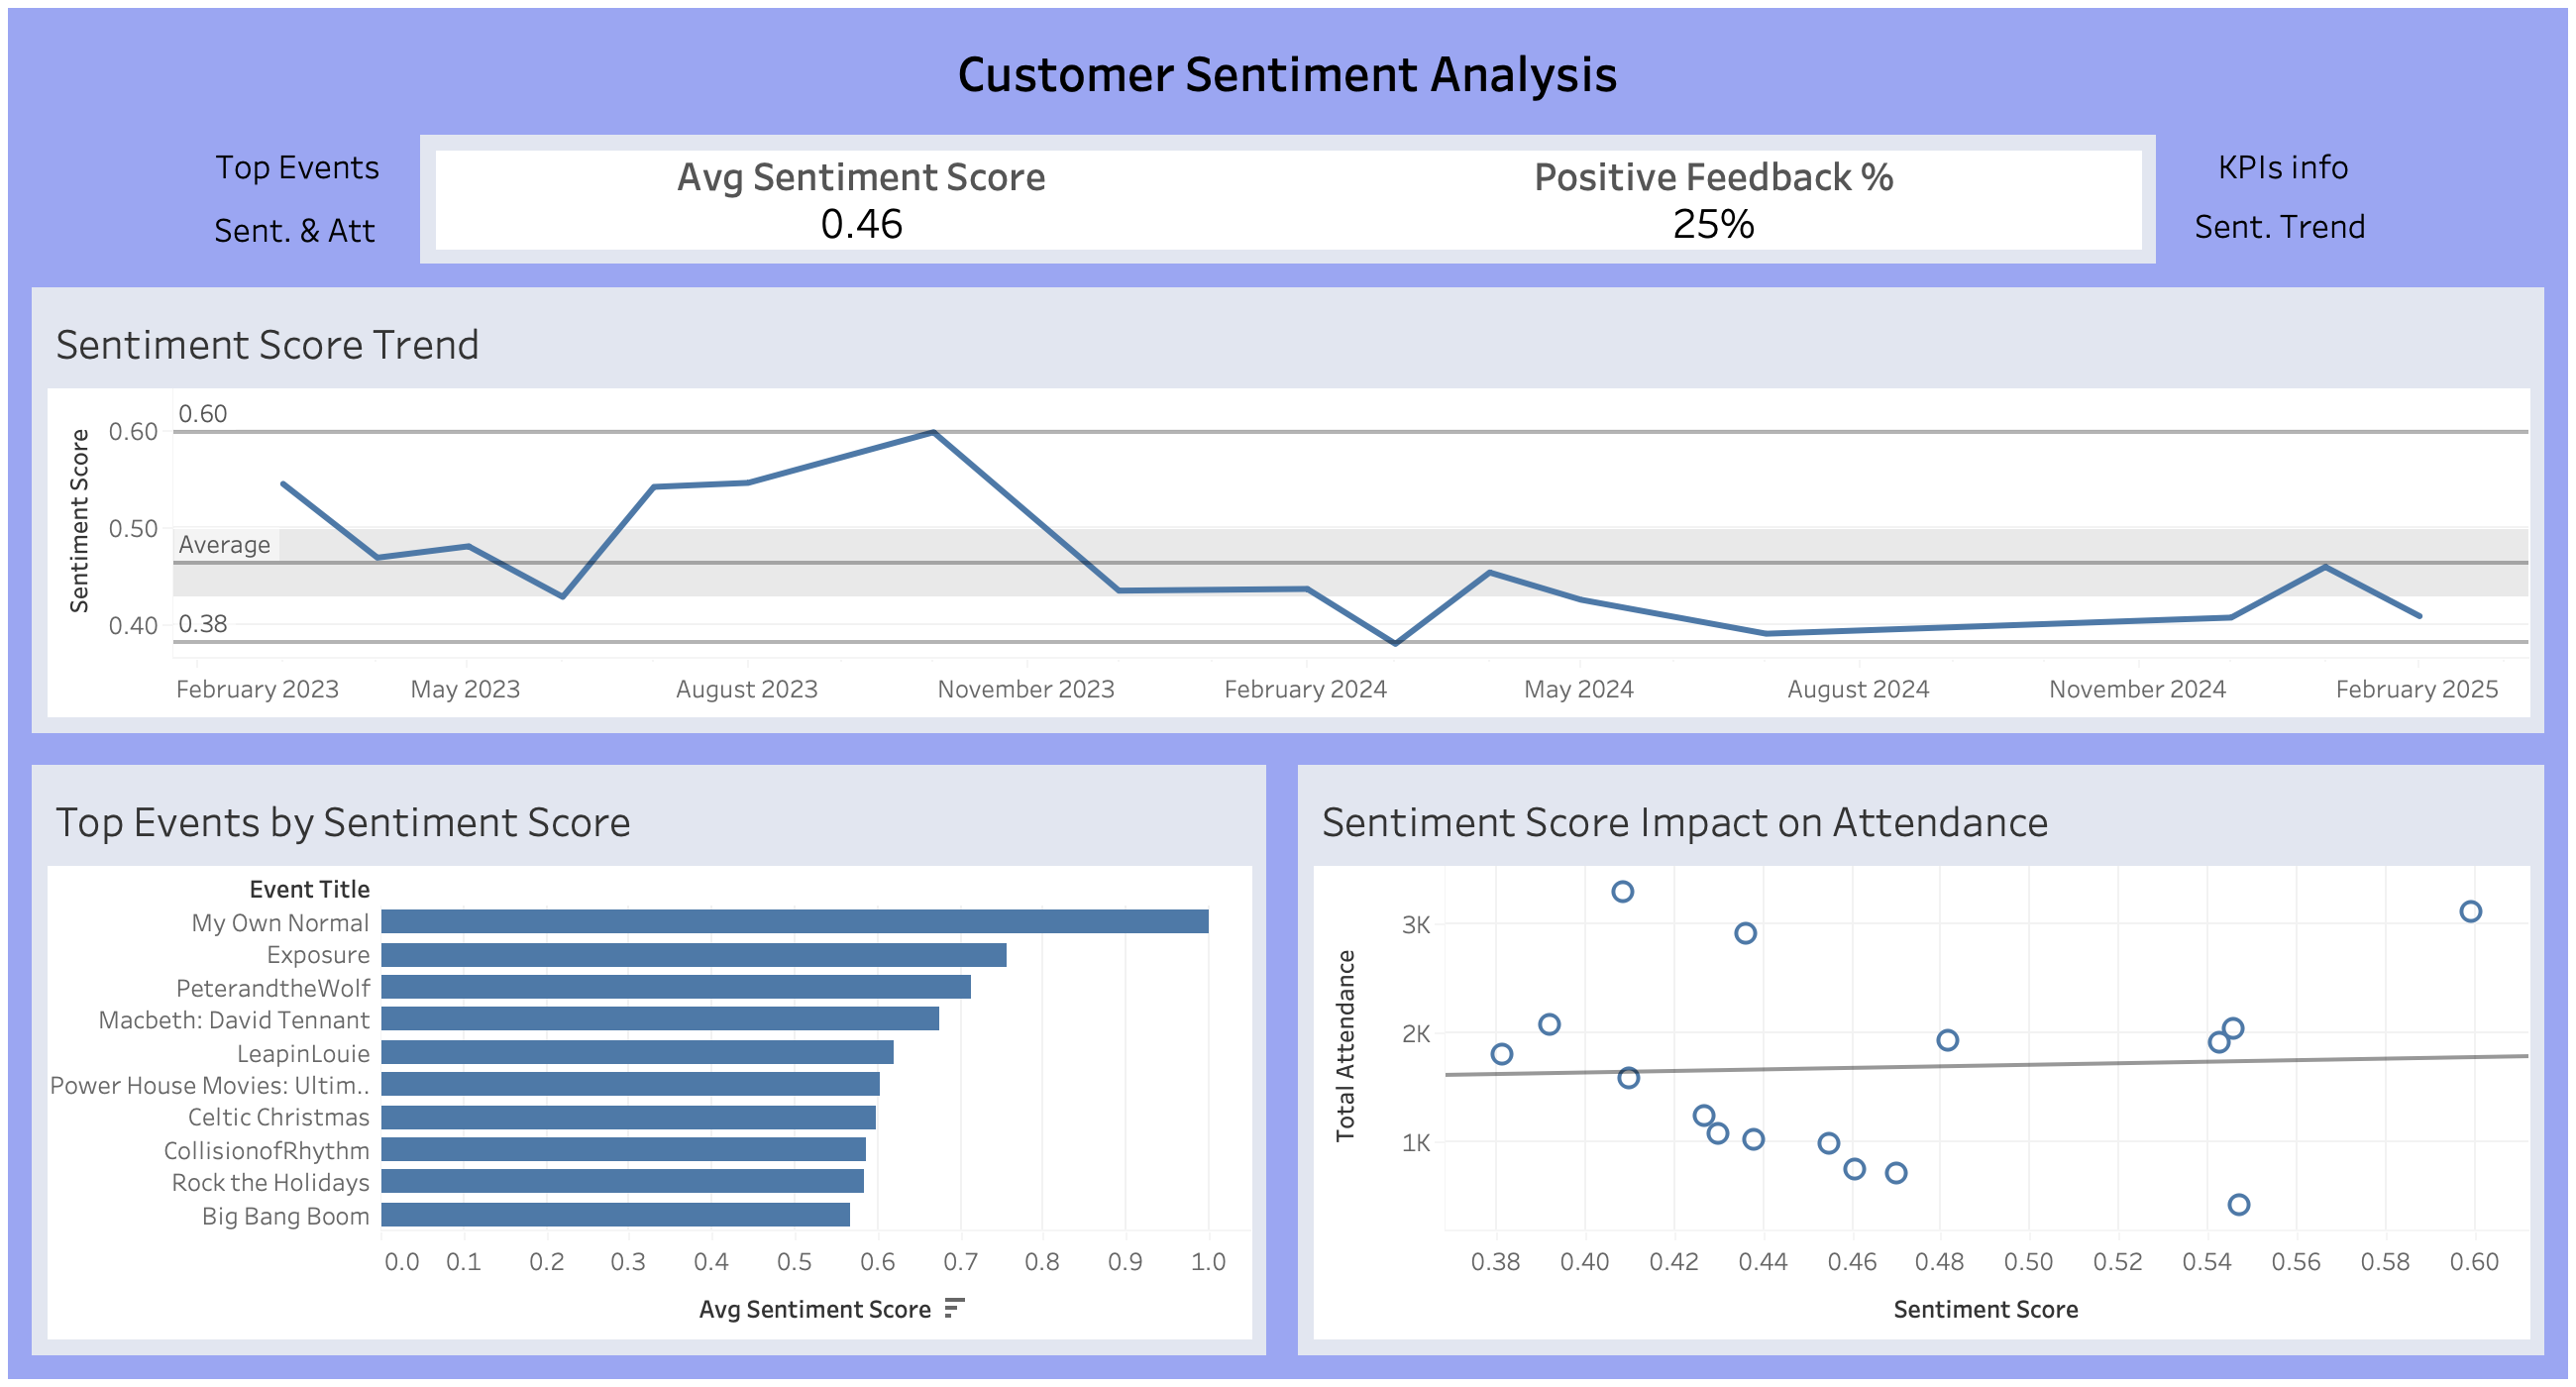

The dashboard page shown, as its layout file describes it:
{"tool":"tableau","page":{"name":"5_sentiment_analysis","canvas":[1300,700],"ordinal":4},"visuals":[{"type":"text","box":[8,8,1284,56]},{"type":"text","box":[8,64,200,73]},{"type":"worksheet","title":"KPIs Sentiment","mark":"Automatic","box":[208,64,884,73]},{"type":"text","box":[1092,64,200,73]},{"type":"dashboard-object","box":[93,67,115,33]},{"type":"dashboard-object","box":[1090,68,125,32]},{"type":"text","box":[543,72,219,145]},{"type":"dashboard-object","box":[92,97,114,37]},{"type":"dashboard-object","box":[1092,99,118,29]},{"type":"worksheet","title":"Sentiment Score","mark":"Automatic","rows":["sentiment_score"],"cols":["month_str"],"box":[8,137,1284,241]},{"type":"text","box":[837,174,441,89]},{"type":"text","box":[1042,278,241,242]},{"type":"text","box":[317,300,349,151]},{"type":"worksheet","title":"Top Events by Sentiment Score","mark":"Automatic","rows":["event_title"],"cols":["sentiment_score"],"box":[8,378,639,314]},{"type":"worksheet","title":"Sentiment Score Impact on Attendance","mark":"Automatic","rows":["total_attendance"],"cols":["sentiment_score"],"box":[647,378,645,314]}]}

Visuals, with their boxes in screenshot pixels (x1, y1, x2, y2), scaled from the page's 1300x700 canvas onto the 2576x1387 screenshot:
text: bbox(16, 16, 2560, 127)
text: bbox(16, 127, 412, 271)
"KPIs Sentiment" worksheet: bbox(412, 127, 2164, 271)
text: bbox(2164, 127, 2560, 271)
dashboard-object: bbox(184, 133, 412, 198)
dashboard-object: bbox(2160, 135, 2408, 198)
text: bbox(1076, 143, 1510, 430)
dashboard-object: bbox(182, 192, 408, 266)
dashboard-object: bbox(2164, 196, 2398, 254)
"Sentiment Score" worksheet: bbox(16, 271, 2560, 749)
text: bbox(1659, 345, 2532, 521)
text: bbox(2065, 551, 2542, 1030)
text: bbox(628, 594, 1320, 894)
"Top Events by Sentiment Score" worksheet: bbox(16, 749, 1282, 1371)
"Sentiment Score Impact on Attendance" worksheet: bbox(1282, 749, 2560, 1371)
